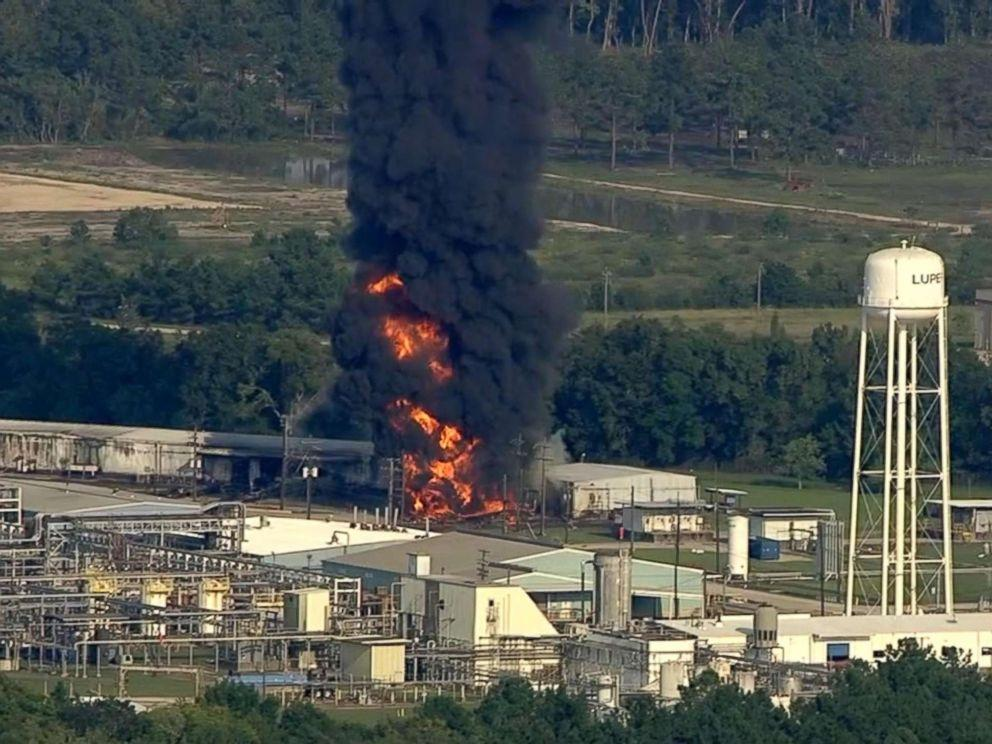Fire: (363, 260, 537, 537)
